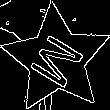M_SE: (24, 26, 89, 92)
